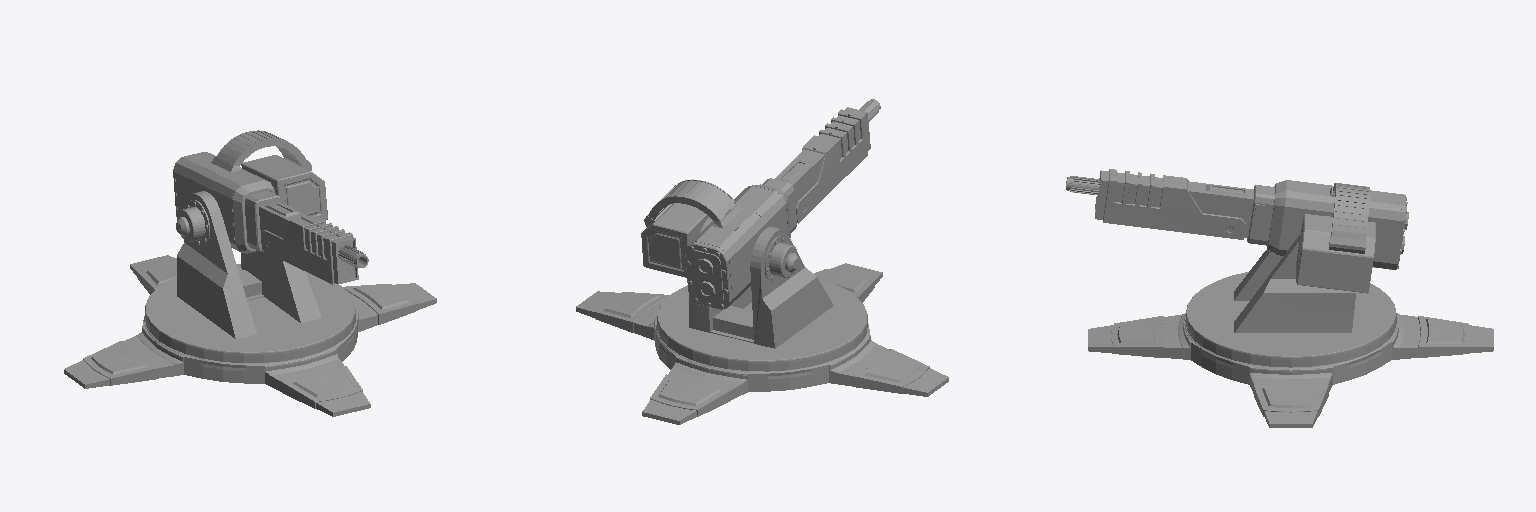
Rendered from MachinegunTurretfixed.obj.
3 views of the same model, side by side, from view 1: azimuth 30°, elevation 25°; view 2: azimuth 150°, elevation 25°; view 3: azimuth 270°, elevation 25° (orthographic).
Parts seen in each view (by area): view 1: Base_default6.001, Base_default6, Gun_default3, BarrelGuard_default2, Motor_default5; view 2: Base_default6.001, Gun_default3, Base_default6, BarrelGuard_default2, Base_default4, Motor_default5; view 3: Gun_default3, Base_default6.001, Base_default6, BarrelGuard_default2.
Boxes of the visible parts, x1,y1,x2,y2 form: Base_default6.001: [145, 191, 355, 363]; Base_default6: [64, 255, 436, 416]; Gun_default3: [173, 130, 368, 283]; BarrelGuard_default2: [261, 215, 352, 284]; Motor_default5: [176, 200, 209, 245]; Base_default6.001: [657, 217, 867, 371]; Gun_default3: [641, 99, 880, 309]; Base_default6: [576, 263, 948, 424]; BarrelGuard_default2: [796, 109, 867, 223]; Base_default4: [710, 306, 753, 342]; Motor_default5: [765, 236, 798, 281]; Gun_default3: [1066, 170, 1408, 293]; Base_default6.001: [1185, 216, 1396, 367]; Base_default6: [1088, 313, 1493, 427]; BarrelGuard_default2: [1103, 169, 1245, 239].
Size of the model in its own units: 5.17 by 2.43 by 5.45.